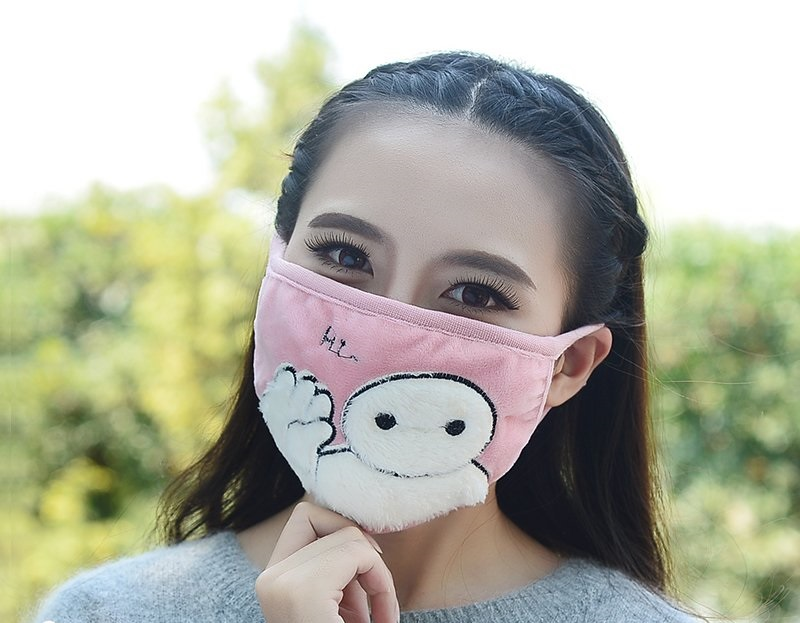face_mask: (260, 129, 570, 491)
